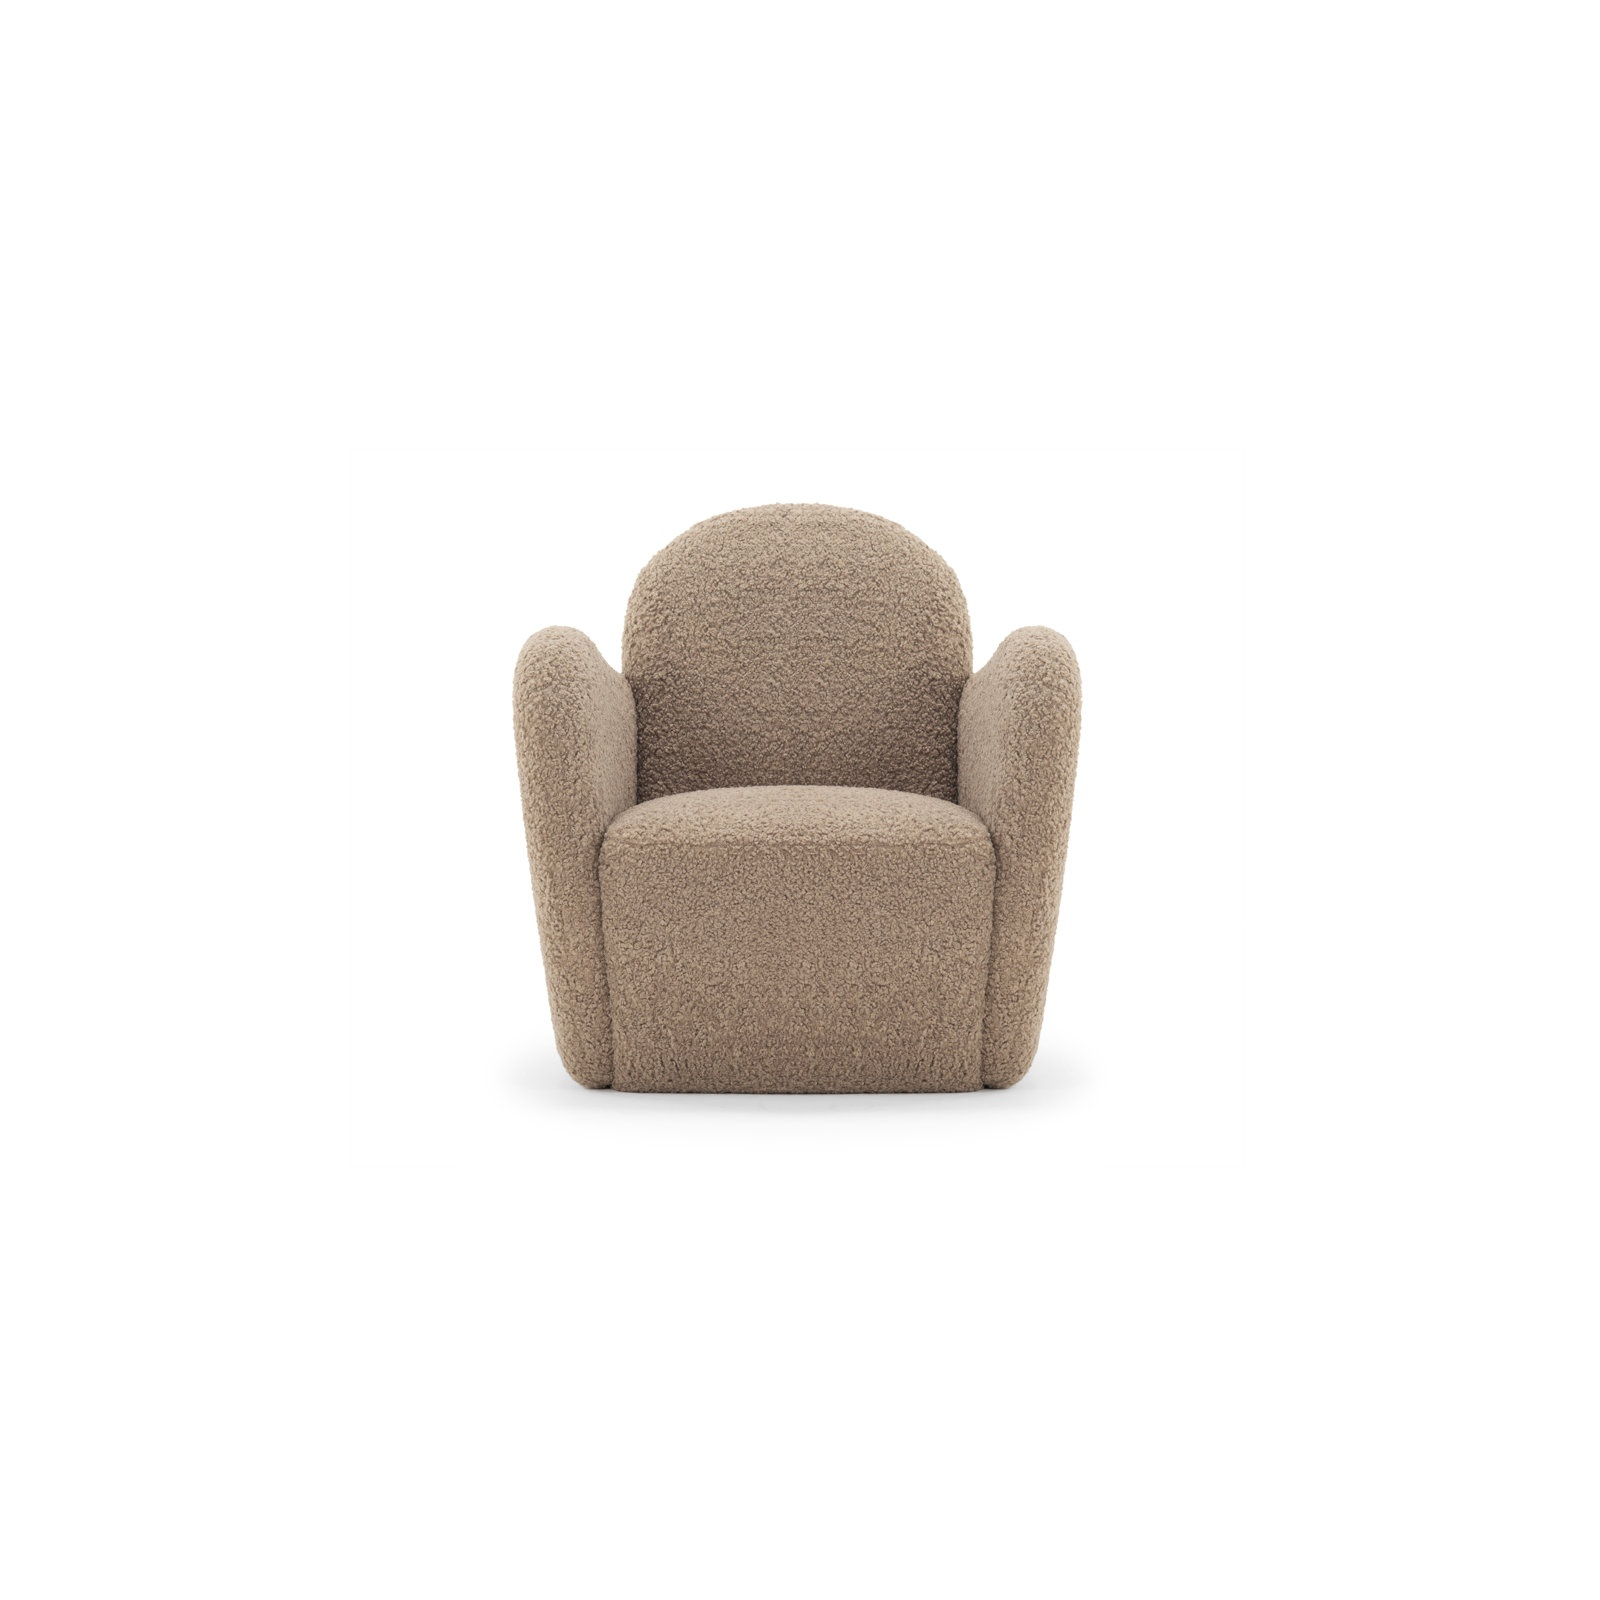obstacle: (514, 505, 1078, 1092)
